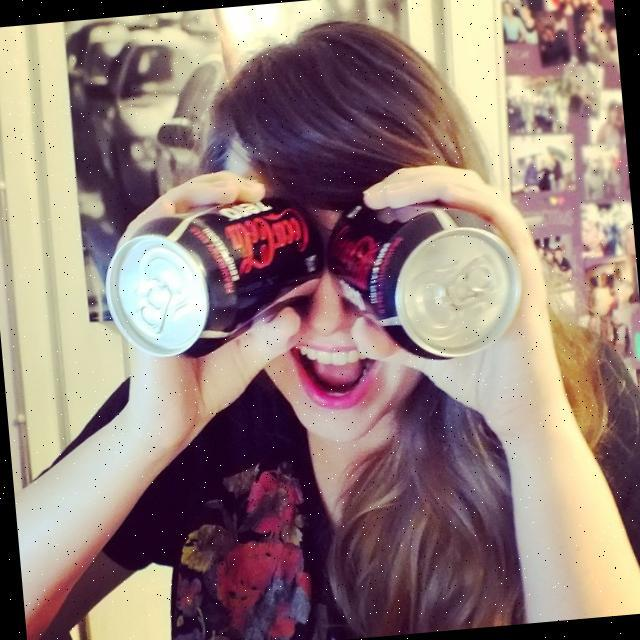coca-cola: (101, 194, 329, 364), (323, 191, 527, 370)
